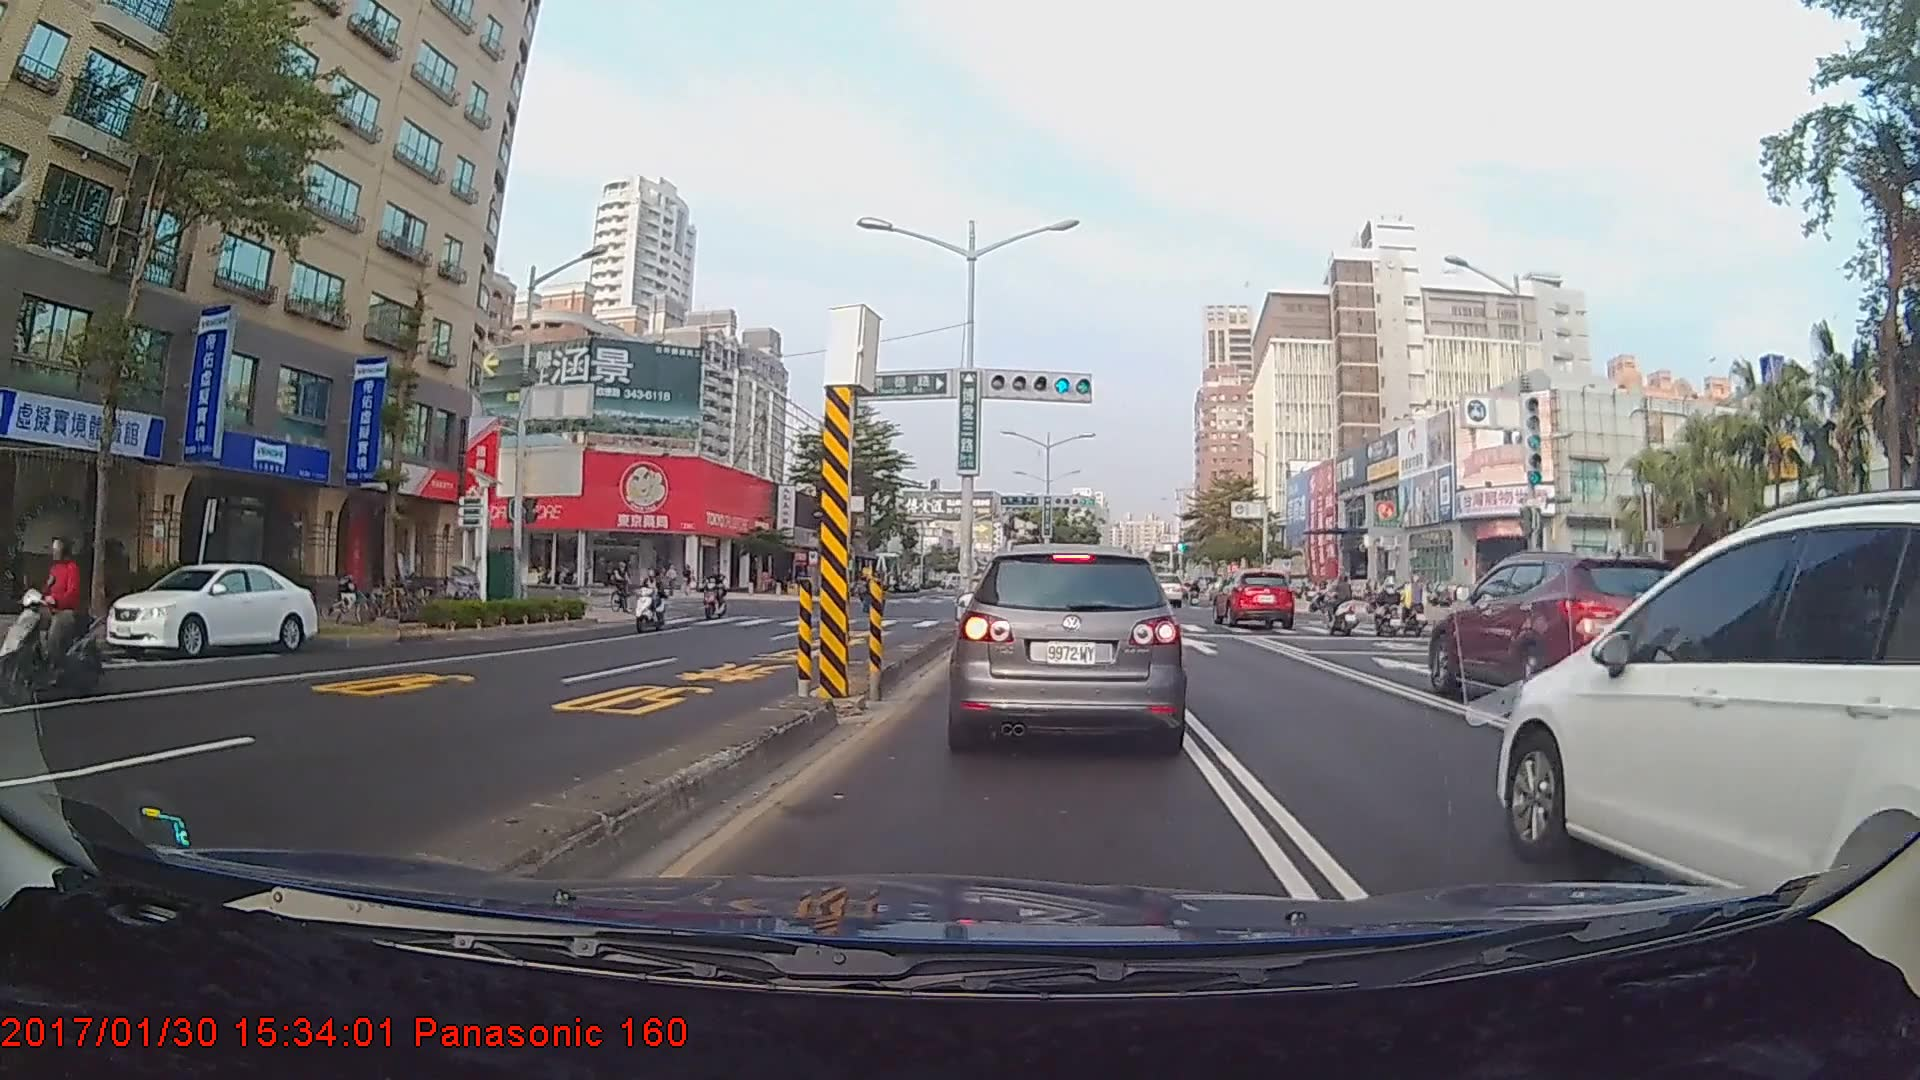rider: (6, 537, 106, 701), (1318, 573, 1370, 639), (1365, 575, 1414, 639), (631, 565, 673, 640), (609, 558, 646, 622), (706, 568, 736, 625)
vehicle: (1494, 499, 1920, 884), (954, 541, 1185, 750), (1428, 550, 1708, 712), (105, 561, 315, 659), (1213, 569, 1296, 627), (1145, 570, 1182, 607)
